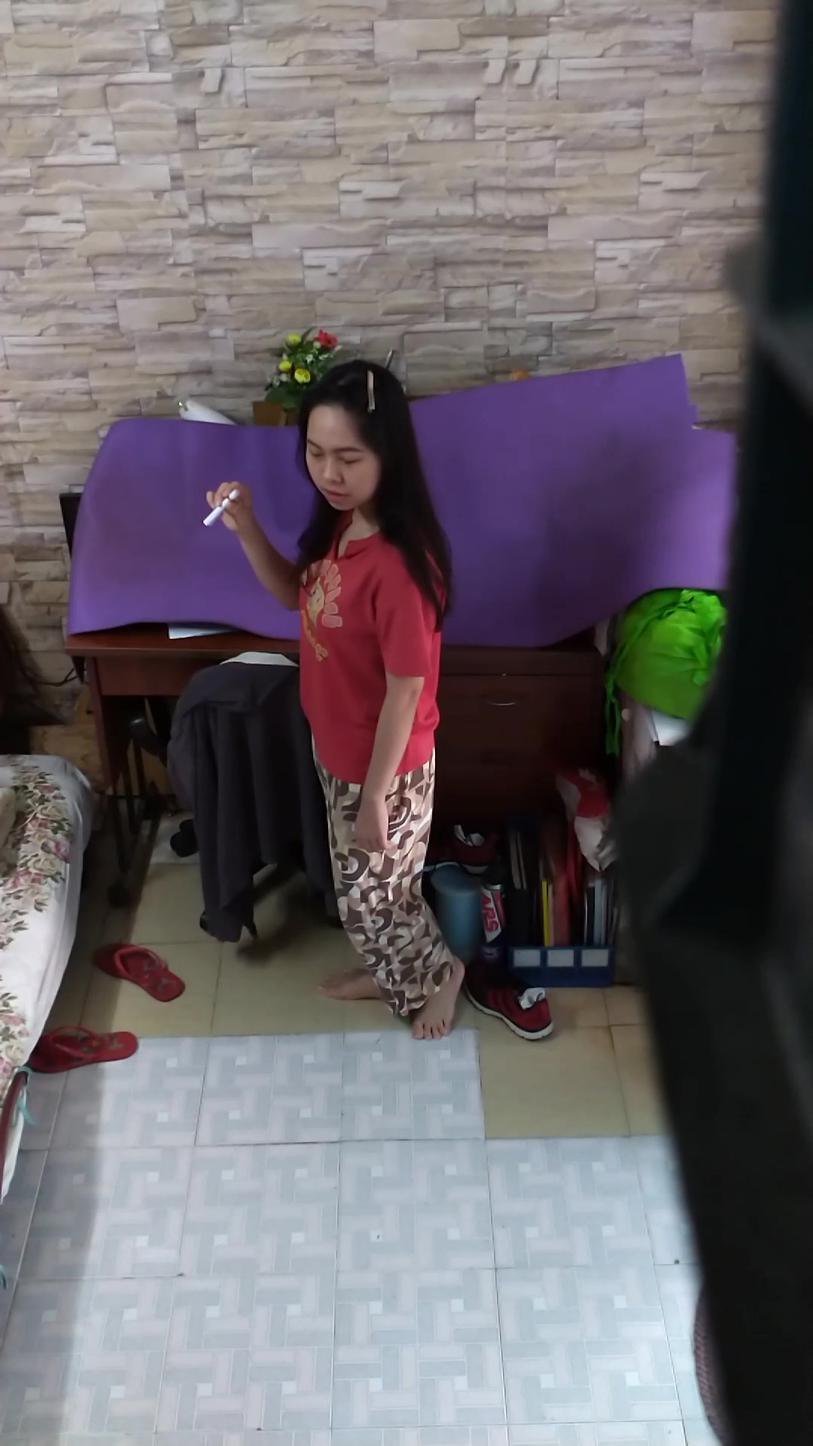cigarette: (199, 505, 225, 532)
person: (203, 350, 467, 1044)
